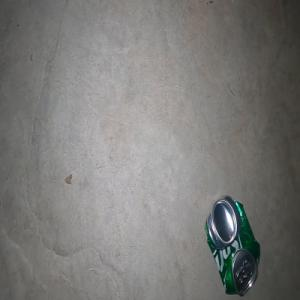SodaCan: (204, 194, 260, 296)
